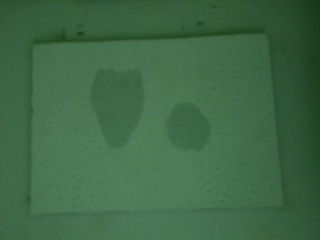Water_detected: (100, 78, 136, 135), (176, 121, 198, 142)
